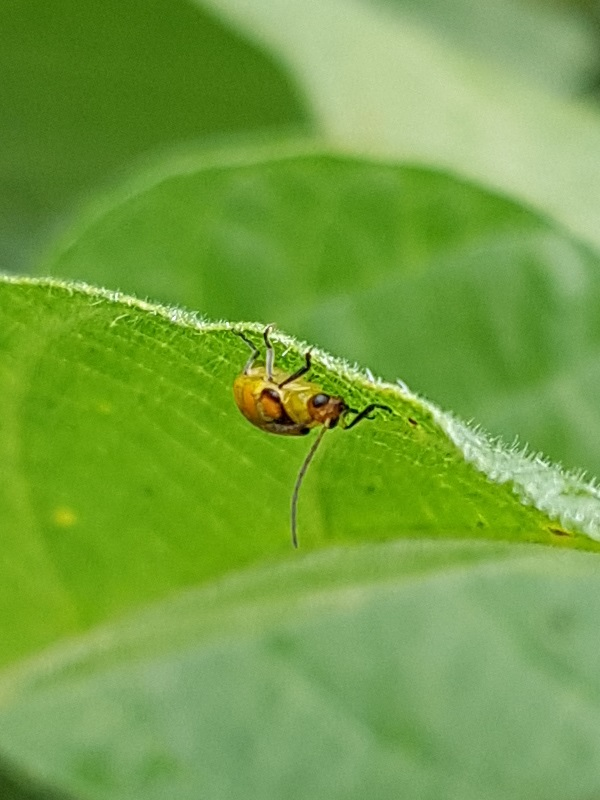Diabrotica_speciosa: (208, 316, 407, 478)
